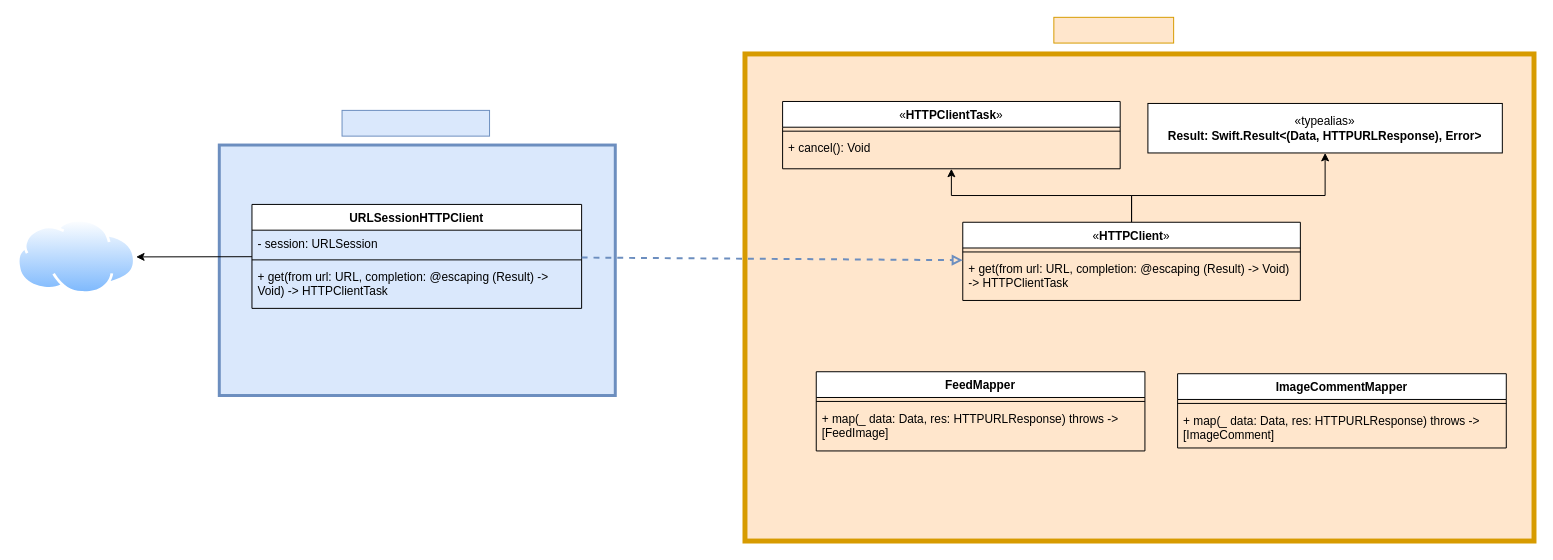
The diagram is 1553 pixels wide and 560 high, and some of its shapes have lost their labels. Each missing label, with the centre of its shape:
"Backend" belongs at pixel 76 256.
"Shared API Infra Module" belongs at pixel 415 122.
"Shared API Module" belongs at pixel 1113 29.
